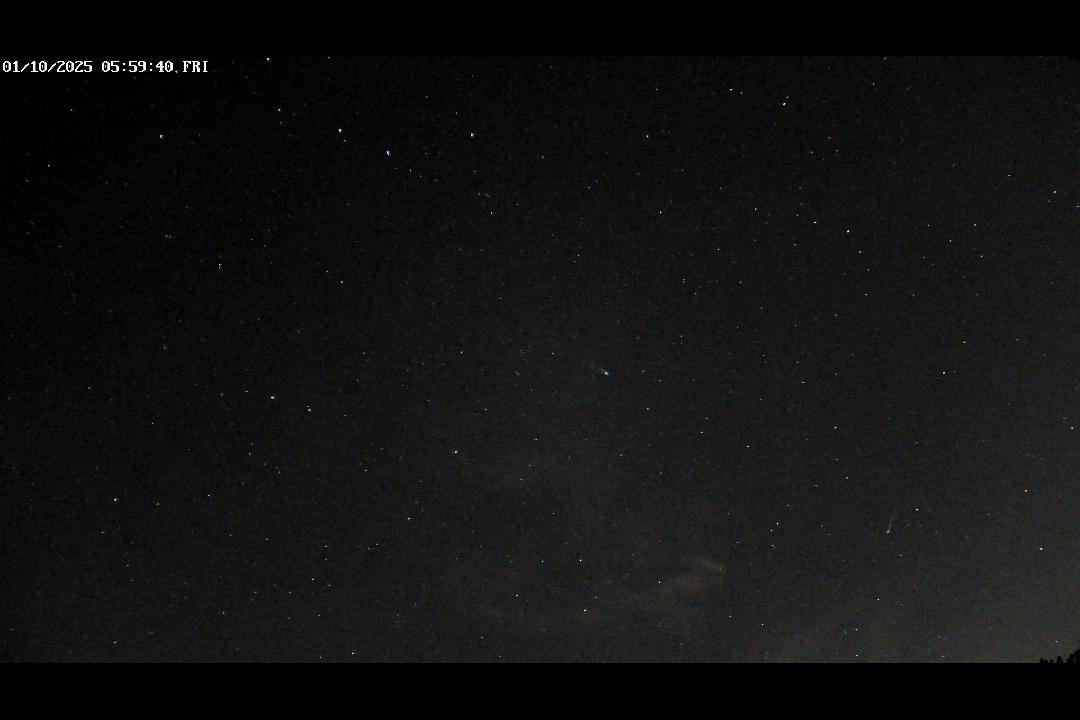Plane: (582, 359, 617, 379), (882, 512, 904, 538), (394, 444, 412, 466)
